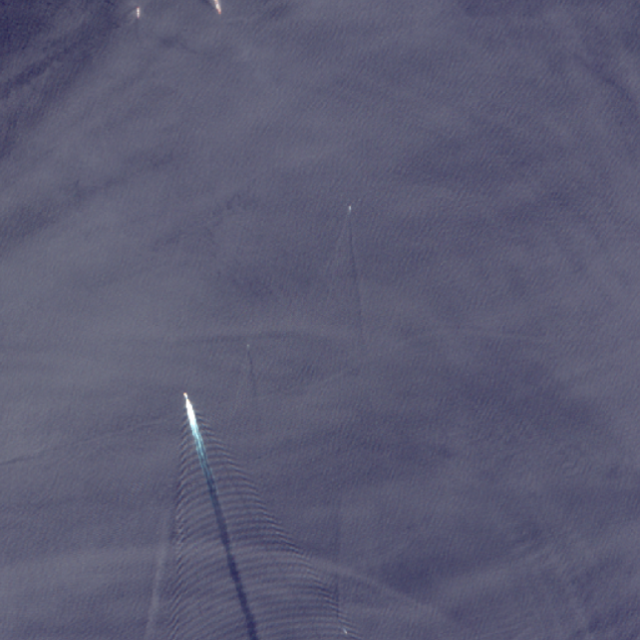wake: (116, 361, 314, 631)
